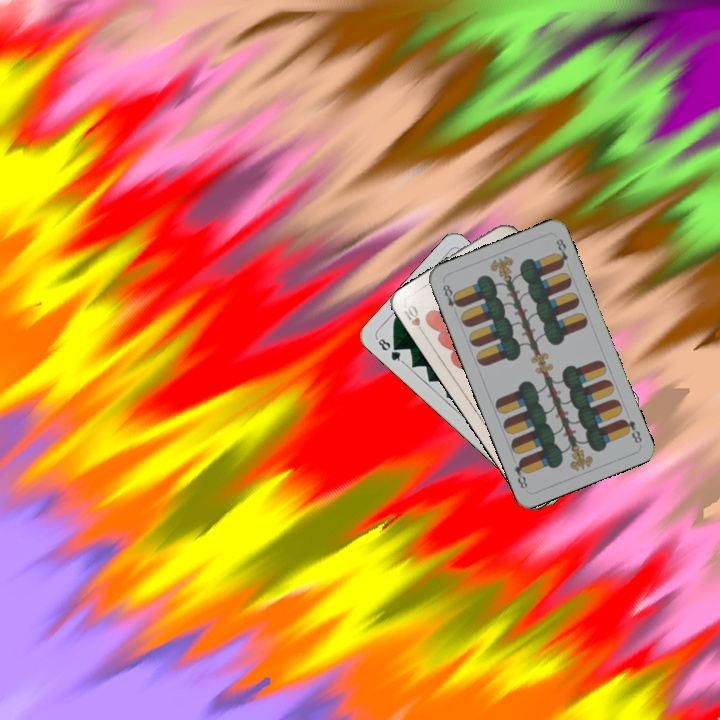E8: (618, 415, 644, 446), (439, 280, 463, 310)
G8: (373, 334, 406, 365)
H10: (399, 301, 428, 338)
